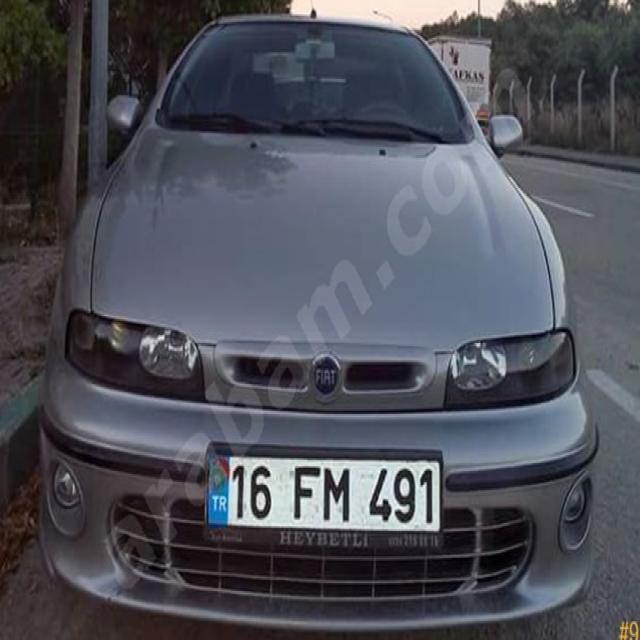license_plate: (206, 453, 441, 532)
